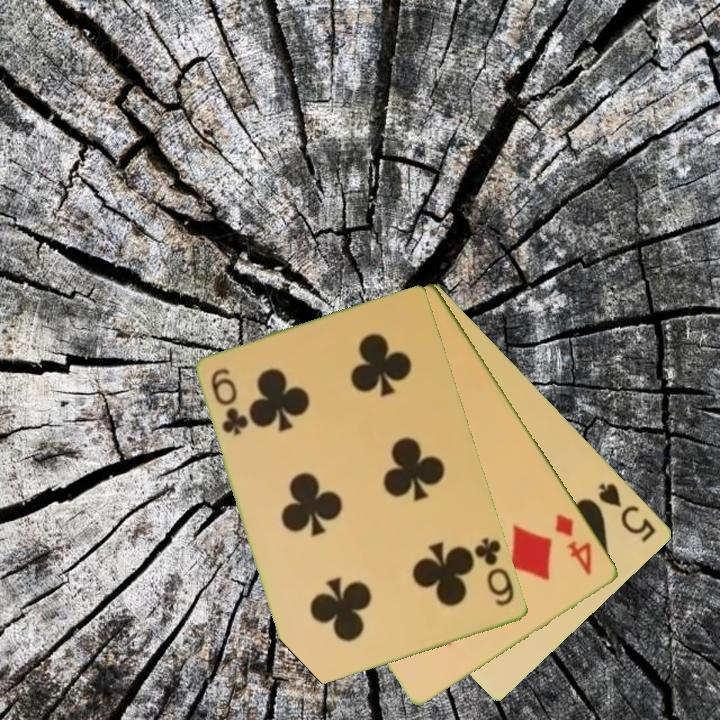4d: (552, 510, 596, 579)
5s: (595, 479, 660, 545)
6c: (471, 534, 518, 610), (207, 365, 250, 439)
